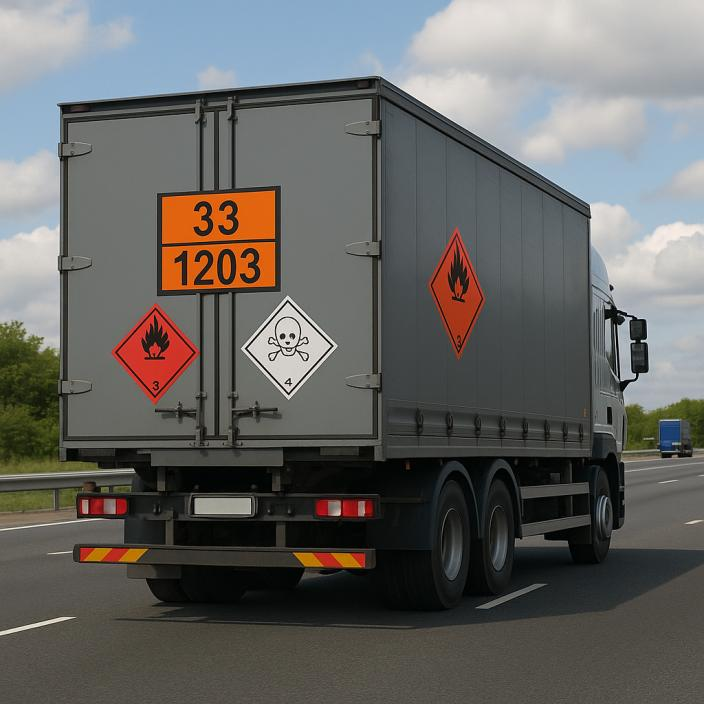can and bottle trash cans: (113, 304, 198, 403), (429, 228, 483, 358)
